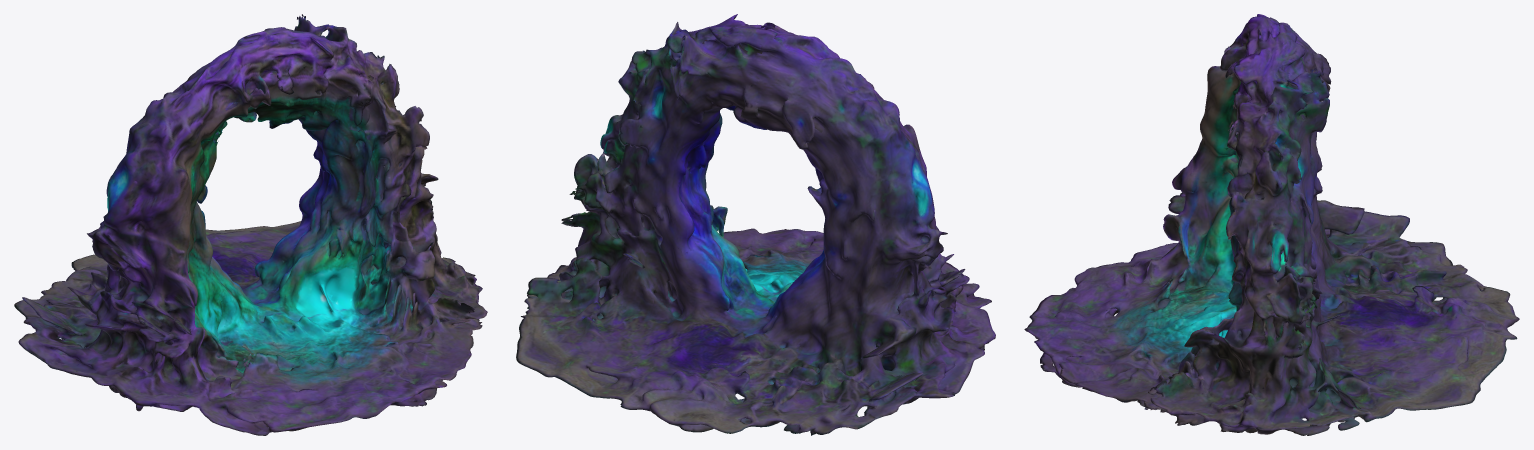
Rendered from A_mystical_magical_po_0613134704_.fbx.
3 views of the same model, side by side, from view 1: azimuth 30°, elevation 25°; view 2: azimuth 150°, elevation 25°; view 3: azimuth 270°, elevation 25° (orthographic). The views are drawn at different scales.
Parts seen in each view (by area): view 1: Mesh1_Mesh1.019; view 2: Mesh1_Mesh1.019; view 3: Mesh1_Mesh1.019.
Part boxes in pixels (x1=…): Mesh1_Mesh1.019: x1=14, y1=14, x2=487, y2=435; Mesh1_Mesh1.019: x1=516, y1=14, x2=995, y2=435; Mesh1_Mesh1.019: x1=1024, y1=14, x2=1519, y2=435.
Bounding box in the file's own units: 198 × 141 × 196.
1 material, 1 textured.
